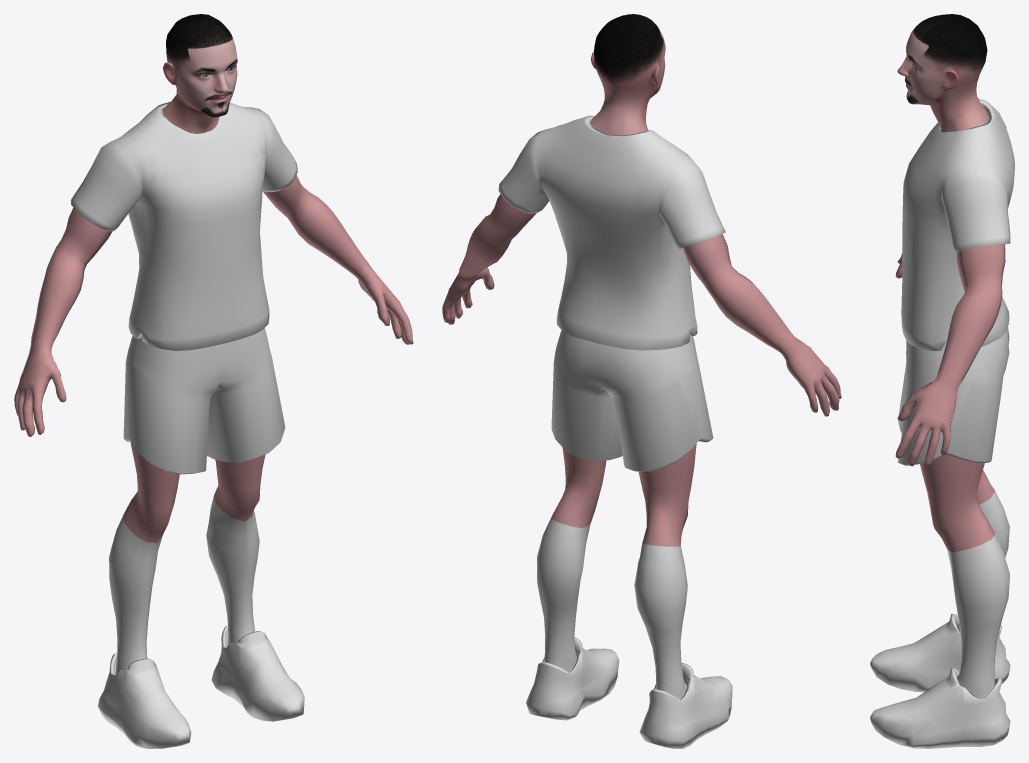
File: ENEMIGO.fbx
3 views of the same model, side by side, from view 1: azimuth 30°, elevation 25°; view 2: azimuth 150°, elevation 25°; view 3: azimuth 270°, elevation 25° (orthographic).
Visible parts, largest first — view 1: JUGADOR -BASE.001; view 2: JUGADOR -BASE.001; view 3: JUGADOR -BASE.001.
Part boxes in pixels (bbox=[...]): JUGADOR -BASE.001: bbox=[14, 14, 413, 748]; JUGADOR -BASE.001: bbox=[442, 14, 841, 748]; JUGADOR -BASE.001: bbox=[870, 14, 1014, 748].
Bounding box in the file's own units: 170 × 55.61 × 294.
